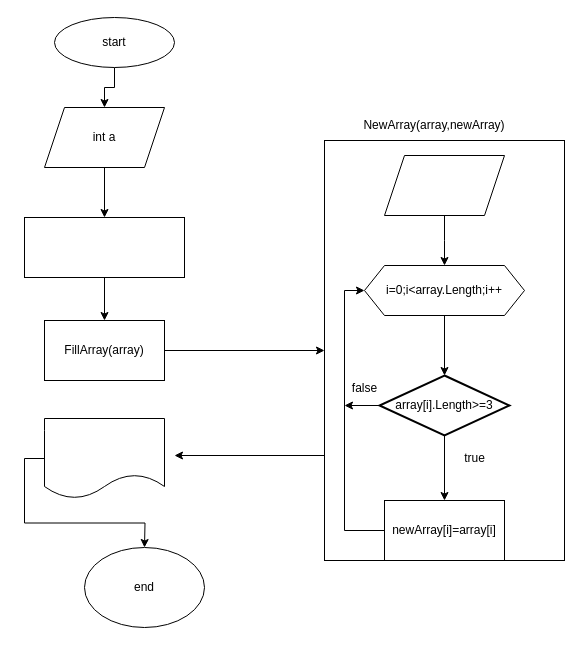
The diagram is 582 pixels wide and 645 high, and some of its shapes have lost their labels. The centre of each missing label's shape, as x and y in pixels:
"array, newArray" belongs at point 104,458.
"string[] array = new string[a] string[] newArray = new string[a]" belongs at point 104,247.
"string[] array string[] newArray" belongs at point 444,185.
